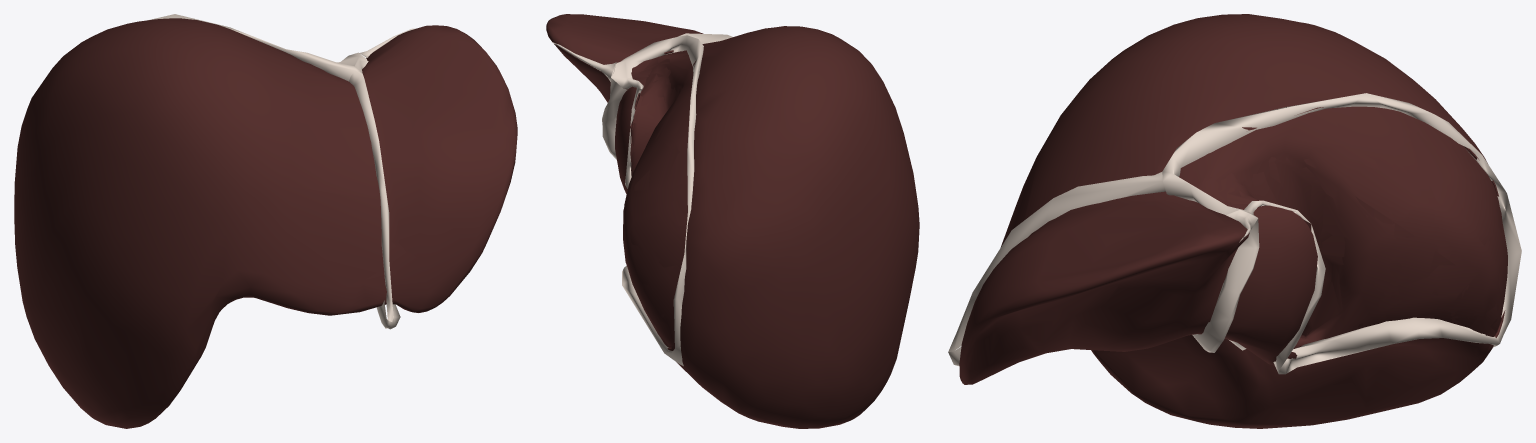
The model's file is liver.glb.
3 views of the same model, side by side, from view 1: azimuth 30°, elevation 25°; view 2: azimuth 150°, elevation 25°; view 3: azimuth 270°, elevation 25° (orthographic). The views are drawn at different scales.
Visible parts, largest first — view 1: VH_M_liver_capsule, VH_M_falciform_ligament, VH_M_coronary_ligament_of_liver; view 2: VH_M_liver_capsule, VH_M_bare_area_of_liver, VH_M_coronary_ligament_of_liver, VH_M_right_posterosuperior_segment, VH_M_caudate_lobe_of_liver, VH_M_ligamentum_venosum, VH_M_diaphragmatic_surface, VH_M_right_posteroinferior_segment, VH_M_triangular_ligament_of_liver; view 3: VH_M_liver_capsule, VH_M_bare_area_of_liver, VH_M_coronary_ligament_of_liver, VH_M_right_posterosuperior_segment, VH_M_caudate_lobe_of_liver, VH_M_diaphragmatic_surface, VH_M_falciform_ligament, VH_M_ligamentum_venosum.
Part boxes in pixels (x1,y1,x2,y2): VH_M_liver_capsule: (14, 18, 517, 428); VH_M_falciform_ligament: (349, 70, 393, 321); VH_M_coronary_ligament_of_liver: (148, 14, 368, 81); VH_M_liver_capsule: (546, 14, 919, 428); VH_M_bare_area_of_liver: (623, 50, 693, 347); VH_M_coronary_ligament_of_liver: (611, 35, 703, 366); VH_M_right_posterosuperior_segment: (623, 96, 690, 317); VH_M_caudate_lobe_of_liver: (631, 53, 692, 166); VH_M_ligamentum_venosum: (602, 78, 627, 159); VH_M_diaphragmatic_surface: (627, 73, 680, 328); VH_M_right_posteroinferior_segment: (643, 306, 674, 346); VH_M_triangular_ligament_of_liver: (552, 42, 616, 81); VH_M_liver_capsule: (959, 14, 1505, 428); VH_M_bare_area_of_liver: (1179, 106, 1507, 344); VH_M_coronary_ligament_of_liver: (1162, 93, 1521, 374); VH_M_right_posterosuperior_segment: (1332, 109, 1504, 320); VH_M_caudate_lobe_of_liver: (1188, 128, 1362, 348); VH_M_diaphragmatic_surface: (1226, 157, 1497, 348); VH_M_falciform_ligament: (948, 172, 1165, 351); VH_M_ligamentum_venosum: (1192, 218, 1259, 352).
Size of the model in its own units: 0.1913 by 0.1746 by 0.2018.
